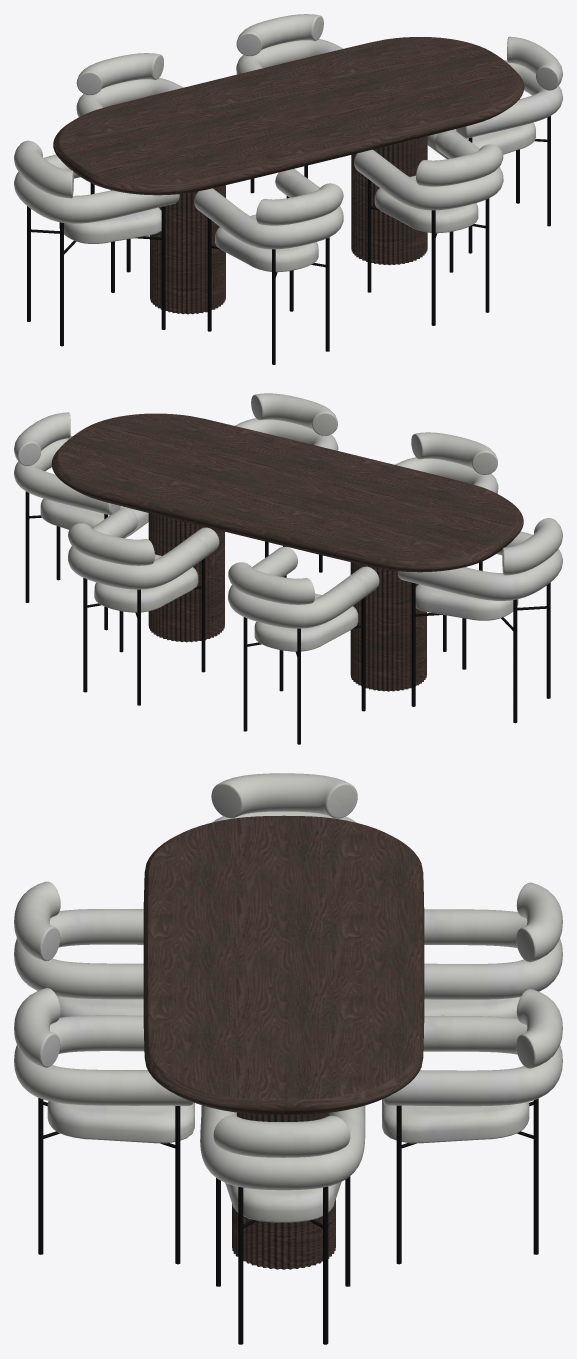
Rendered from table_dinner.glb.
3 renders of one model, top to bottom at view 1: azimuth 30°, elevation 25°; view 2: azimuth 150°, elevation 25°; view 3: azimuth 270°, elevation 25°, orthographic. The views are drawn at different scales.
Visible parts, largest first — view 1: Table, Chair.004, Chair.003, Chair.002, Chair, Chair.005, Chair.001; view 2: Table, Chair.005, Chair.001, Chair.002, Chair, Chair.003, Chair.004; view 3: Table, Chair.001, Chair.004, Chair, Chair.005, Chair.003, Chair.002.
Part boxes in pixels (x1,y1,x2,y2): Table: (53, 37, 524, 314); Chair.004: (354, 129, 503, 325); Chair.003: (194, 169, 343, 364); Chair.002: (14, 140, 179, 346); Chair: (427, 36, 562, 253); Chair.005: (76, 53, 182, 272); Chair.001: (236, 14, 343, 198); Table: (51, 413, 523, 691); Chair.005: (228, 546, 379, 744); Chair.001: (68, 507, 219, 705); Chair.002: (397, 518, 562, 723); Chair: (14, 412, 148, 630); Chair.003: (395, 432, 498, 651); Chair.004: (235, 393, 338, 577); Table: (143, 815, 424, 1269); Chair.001: (382, 989, 562, 1264); Chair.004: (14, 988, 194, 1264); Chair: (200, 1105, 365, 1344); Chair.005: (424, 882, 562, 1018); Chair.003: (14, 881, 143, 1017); Chair.002: (211, 773, 357, 822).
Bounding box in the file's own units: 3.02 × 0.9665 × 2.01.
5 materials, 5 textured.
